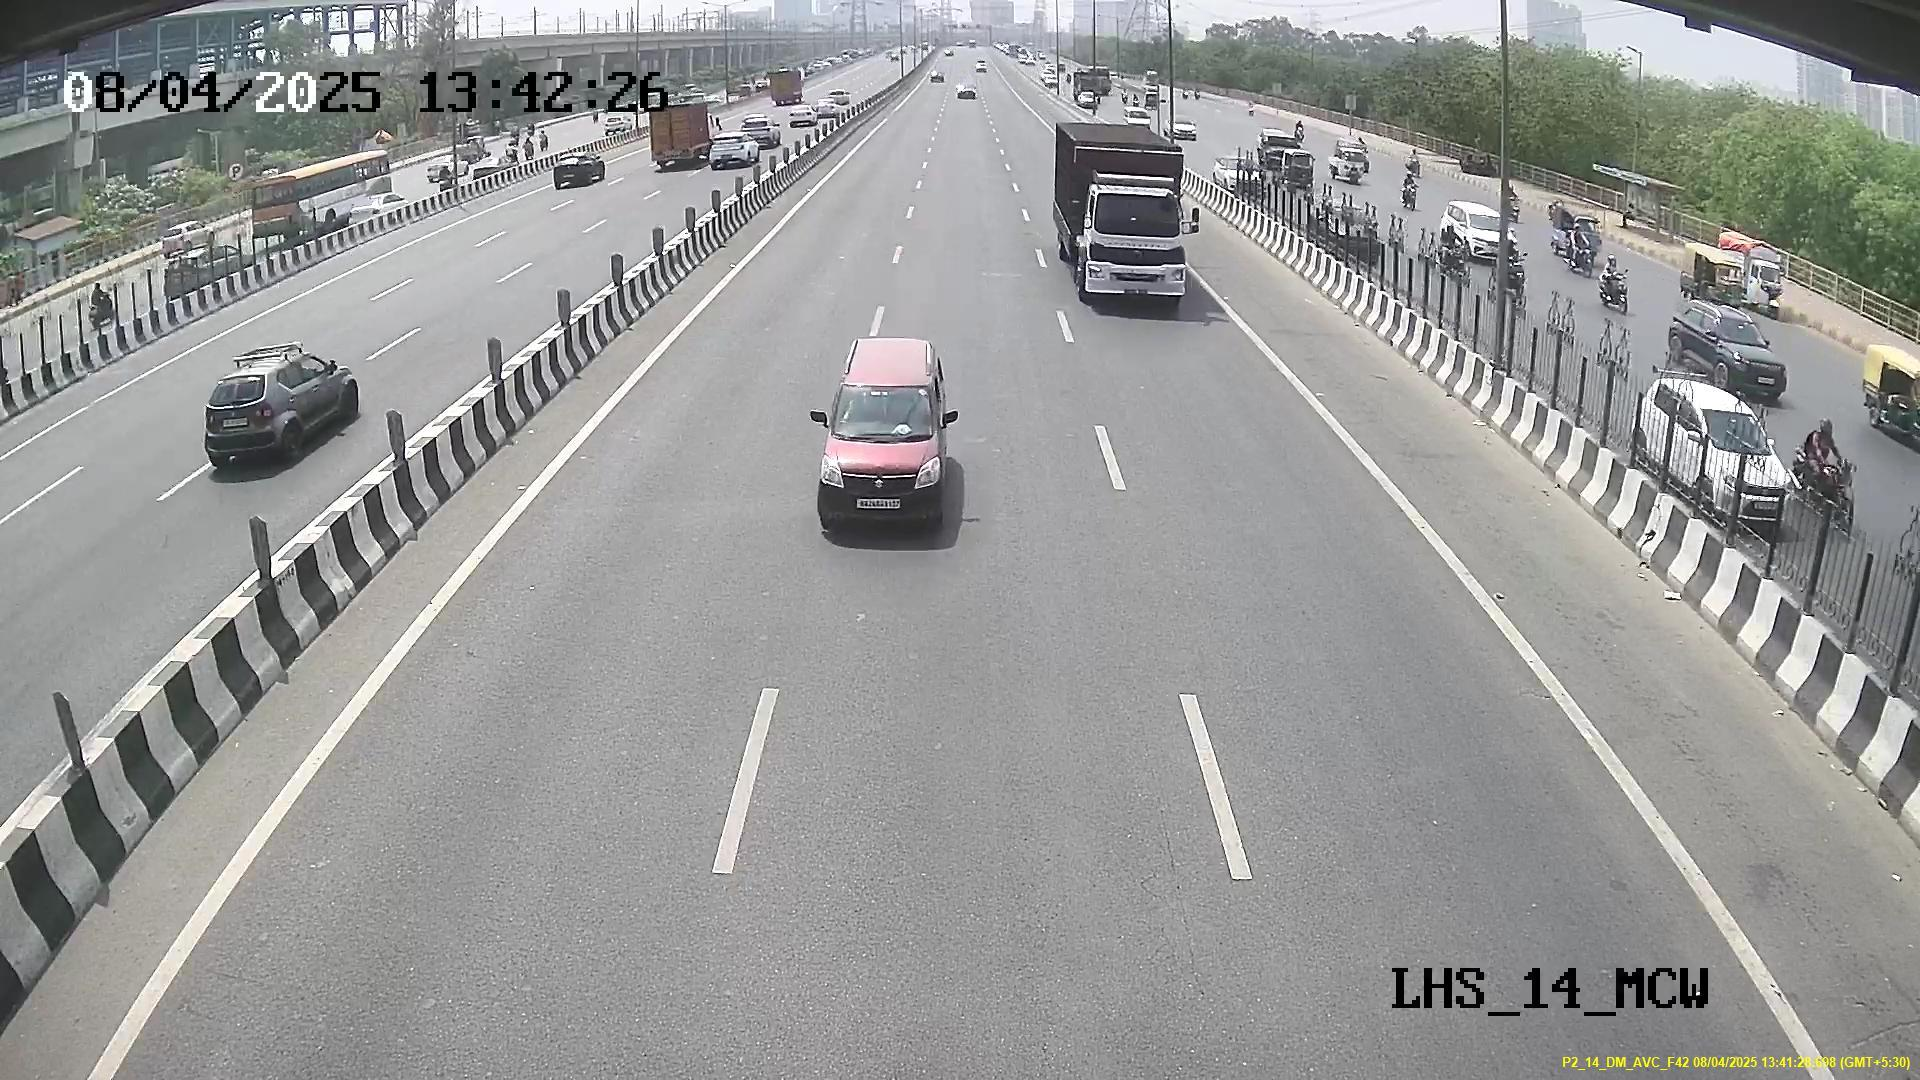car: (812, 369, 955, 542)
truck: (1075, 187, 1189, 309)
